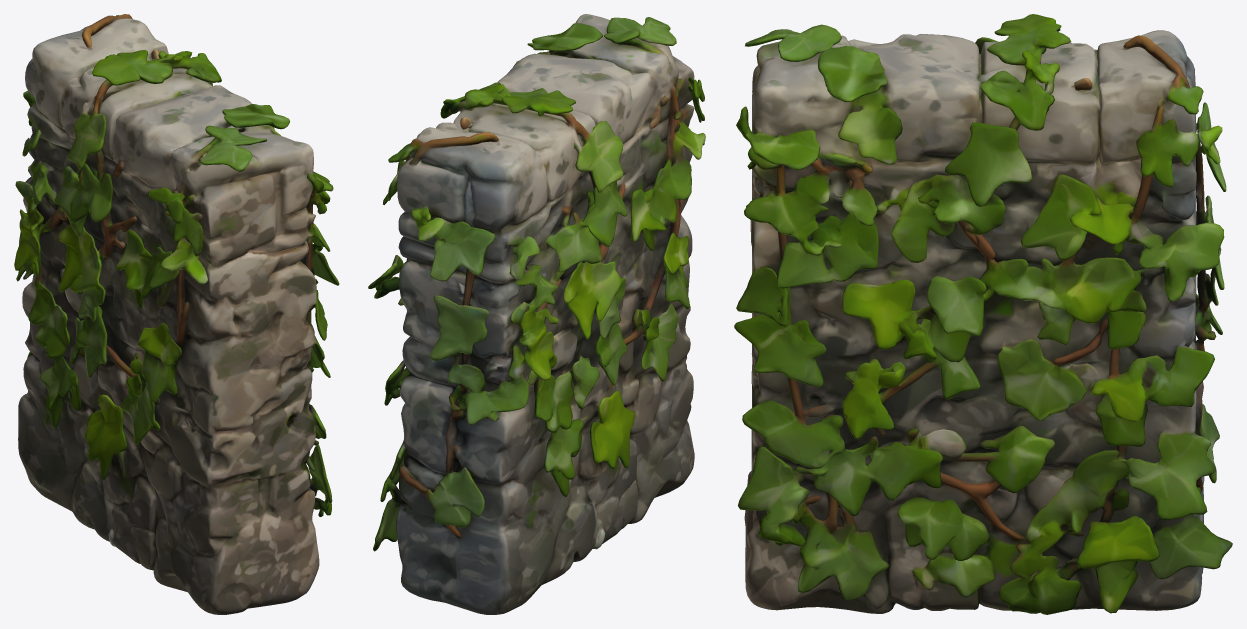
File: nature-ivy.glb
3 renders of one model, left to right at view 1: azimuth 30°, elevation 25°; view 2: azimuth 150°, elevation 25°; view 3: azimuth 270°, elevation 25°, orthographic. The views are drawn at different scales.
Visible parts, largest first — view 1: tripo_node_eb8c9934-7872-43b2-8cd8-2ee8037bc607; view 2: tripo_node_eb8c9934-7872-43b2-8cd8-2ee8037bc607; view 3: tripo_node_eb8c9934-7872-43b2-8cd8-2ee8037bc607.
Part boxes in pixels (left/top/right/bottom): tripo_node_eb8c9934-7872-43b2-8cd8-2ee8037bc607: left=14, top=14, right=339, bottom=614; tripo_node_eb8c9934-7872-43b2-8cd8-2ee8037bc607: left=368, top=14, right=705, bottom=614; tripo_node_eb8c9934-7872-43b2-8cd8-2ee8037bc607: left=734, top=14, right=1232, bottom=614.
Bounding box in the file's own units: 0.7718 × 2 × 1.63.
Materials: 1 (1 with a texture image).
